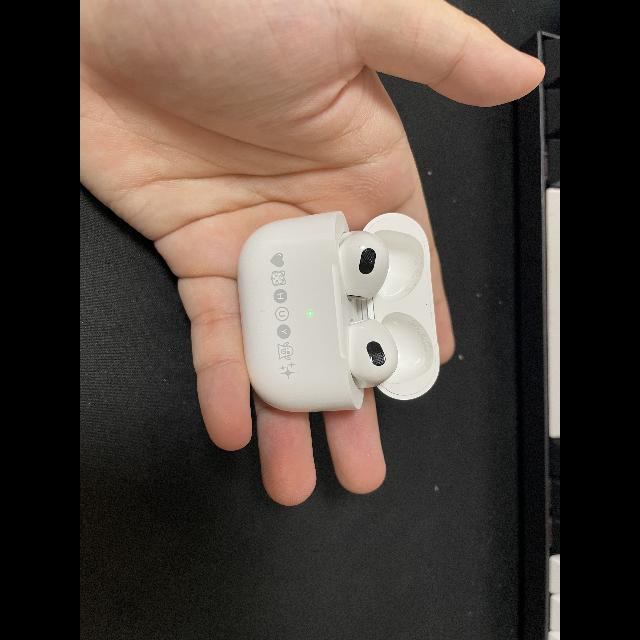airpod3: (233, 210, 443, 416)
